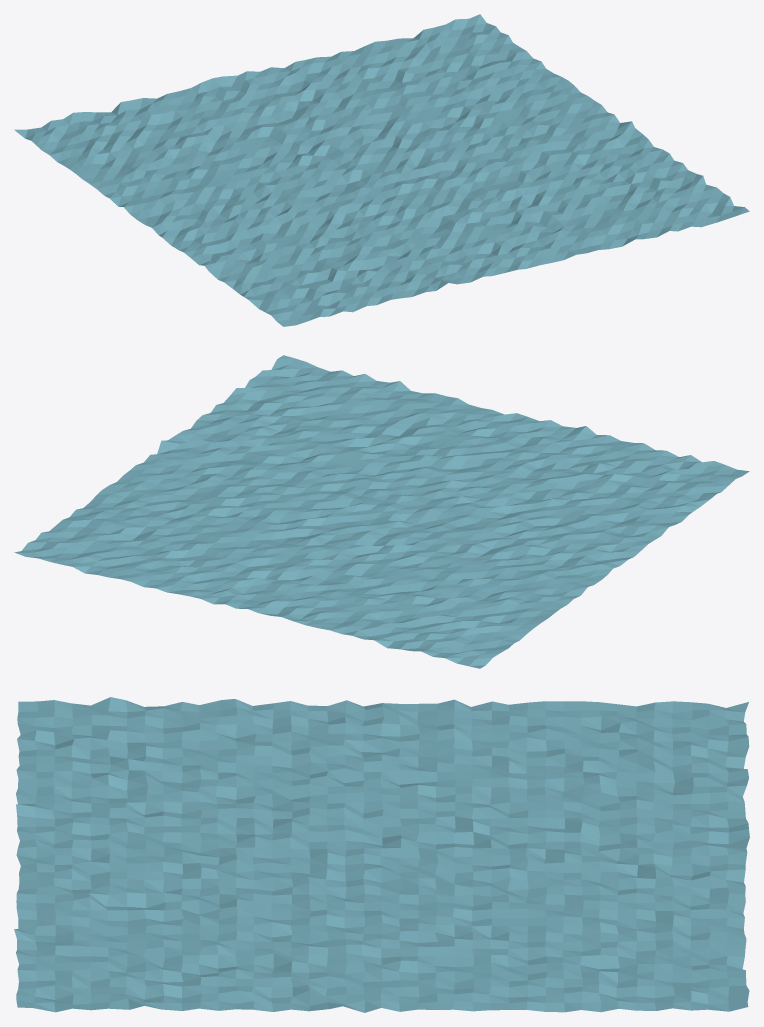
The model's file is 03_sea.FBX.
3 views of the same model, one above another, from view 1: azimuth 30°, elevation 25°; view 2: azimuth 150°, elevation 25°; view 3: azimuth 270°, elevation 25° (orthographic). The views are drawn at different scales.
Parts seen in each view (by area): view 1: Plane002; view 2: Plane002; view 3: Plane002.
Boxes of the visible parts, x1,y1,x2,y2 form: Plane002: [14, 14, 749, 326]; Plane002: [14, 355, 749, 668]; Plane002: [14, 697, 749, 1012].
Size of the model in its own units: 10105 by 186 by 10115.
